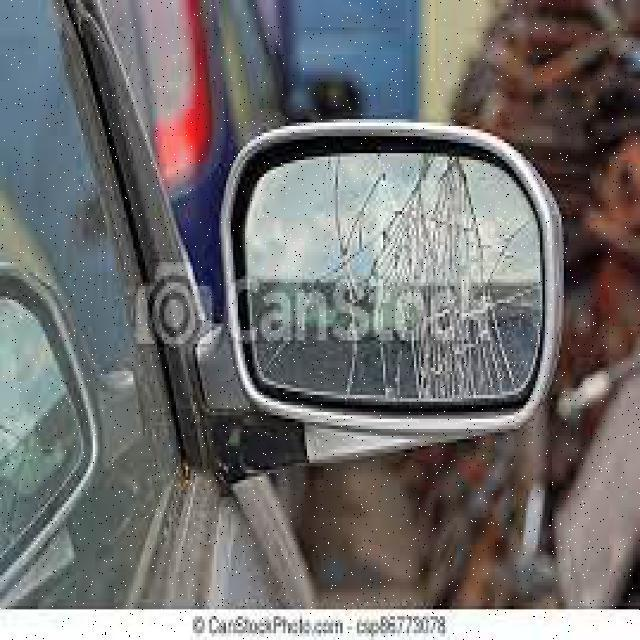car damage: (211, 113, 571, 440)
